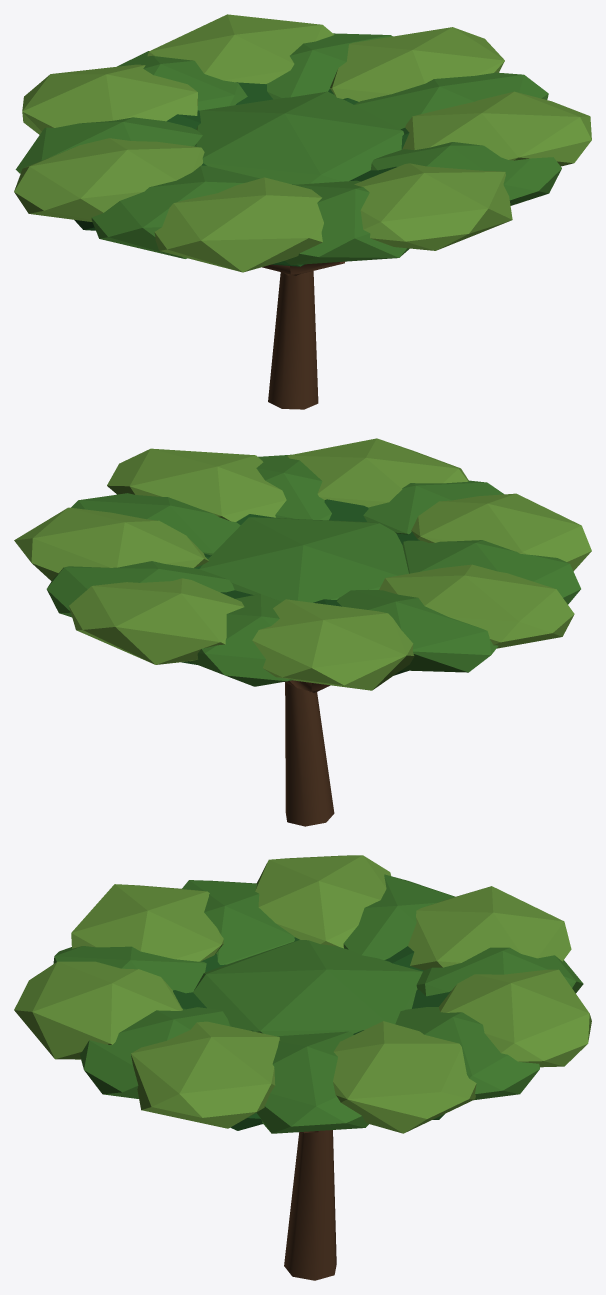
File: rain_tree_hd.glb
3 renders of one model, top to bottom at view 1: azimuth 30°, elevation 25°; view 2: azimuth 150°, elevation 25°; view 3: azimuth 270°, elevation 25°, orthographic. The views are drawn at different scales.
Visible parts, largest first — view 1: leaf.002, leaf, trunk, leaf.001; view 2: leaf.002, leaf, trunk, leaf.001; view 3: leaf.002, leaf, trunk, leaf.001.
Boxes of the visible parts, x1=… form: leaf.002: x1=14, y1=14, x2=591, y2=272; leaf: x1=15, y1=33, x2=561, y2=265; trunk: x1=262, y1=261, x2=344, y2=409; leaf.001: x1=74, y1=82, x2=409, y2=266; leaf.002: x1=14, y1=438, x2=591, y2=690; leaf: x1=46, y1=454, x2=580, y2=686; trunk: x1=284, y1=680, x2=334, y2=826; leaf.001: x1=182, y1=499, x2=419, y2=675; leaf.002: x1=14, y1=855, x2=591, y2=1133; leaf: x1=53, y1=874, x2=583, y2=1133; trunk: x1=284, y1=1130, x2=336, y2=1280; leaf.001: x1=173, y1=937, x2=450, y2=1130.
Size of the model in its own units: 8.66 by 4.68 by 8.05.
